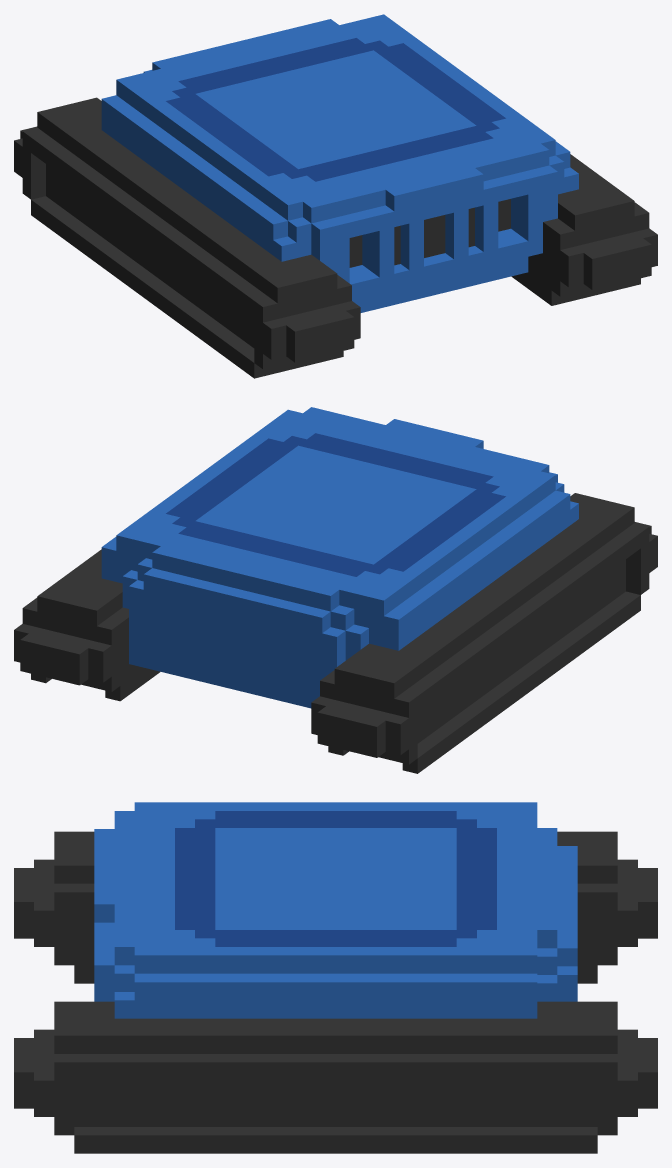
The model's file is blueTank-0.obj.
The picture shows the model from 3 angles, top to bottom: view 1: azimuth 30°, elevation 25°; view 2: azimuth 150°, elevation 25°; view 3: azimuth 270°, elevation 25°; orthographic projection. The views are drawn at different scales.
Bounding box in the file's own units: 2.6 × 0.9 × 3.2.
